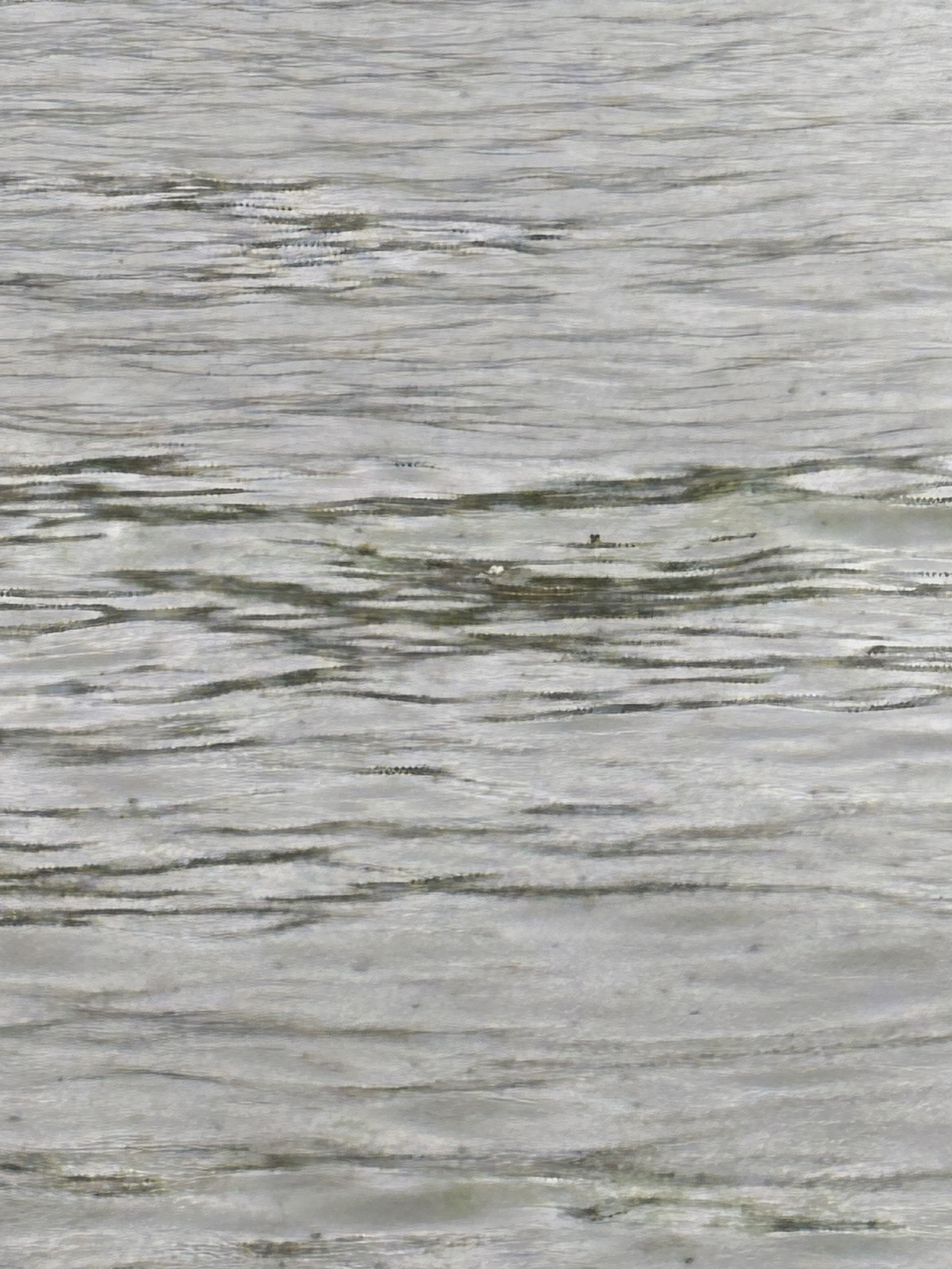Plastic wastes: (420, 569, 443, 639)
